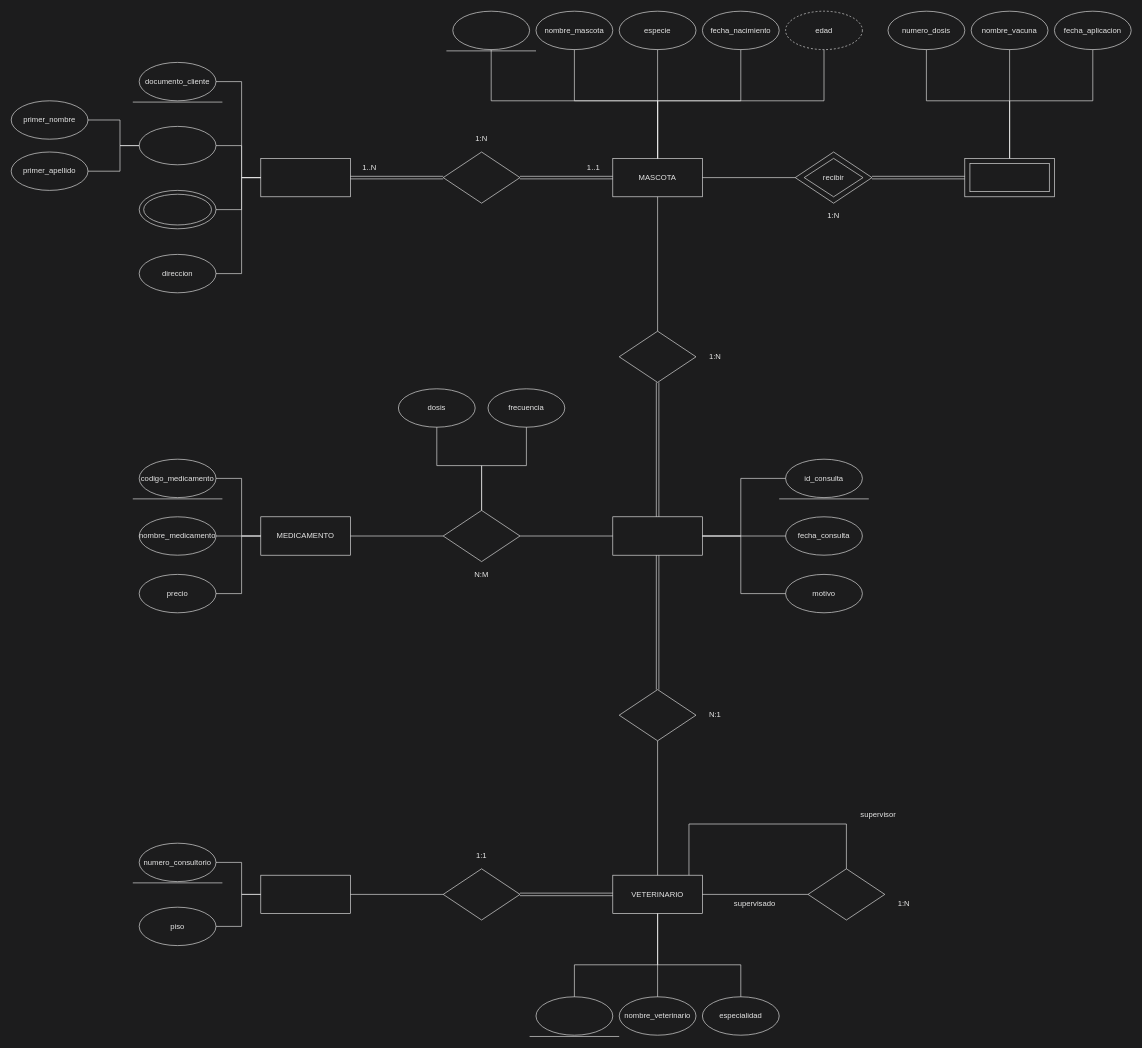
The diagram is 1142 pixels wide and 1048 high, and some of its shapes have lost their labels. Each missing label, with the box of its shape:
asignar: (443, 868, 520, 920)
asistir: (619, 331, 696, 382)
atender: (619, 689, 696, 741)
CLIENTE: (260, 158, 350, 197)
CONSULTA: (612, 516, 702, 555)
CONSULTORIO: (260, 875, 350, 914)
id_mascota: (452, 11, 530, 50)
id_veterinario: (535, 996, 613, 1035)
nombre: (139, 126, 216, 165)
poseer: (443, 151, 520, 203)
recetar: (443, 510, 520, 562)
supervisar: (807, 868, 885, 920)
telefono: (143, 194, 212, 225)
VACUNACION: (969, 163, 1049, 192)
